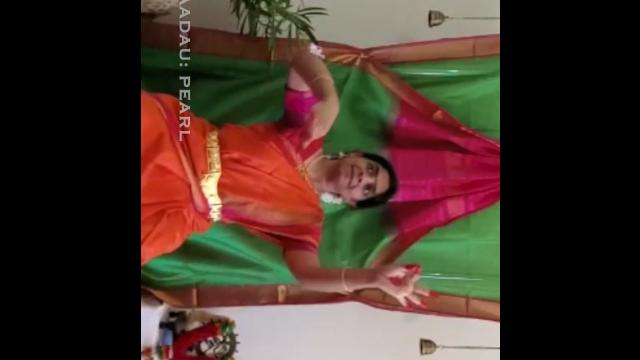hansaasya: (354, 240, 452, 328)
